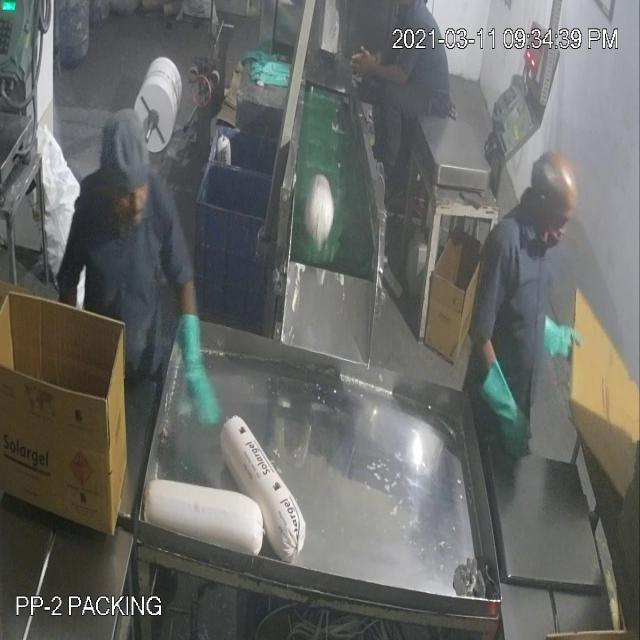gloves: (472, 346, 538, 466), (182, 303, 220, 438), (528, 314, 578, 373)
no-gloves: (343, 43, 416, 102)
